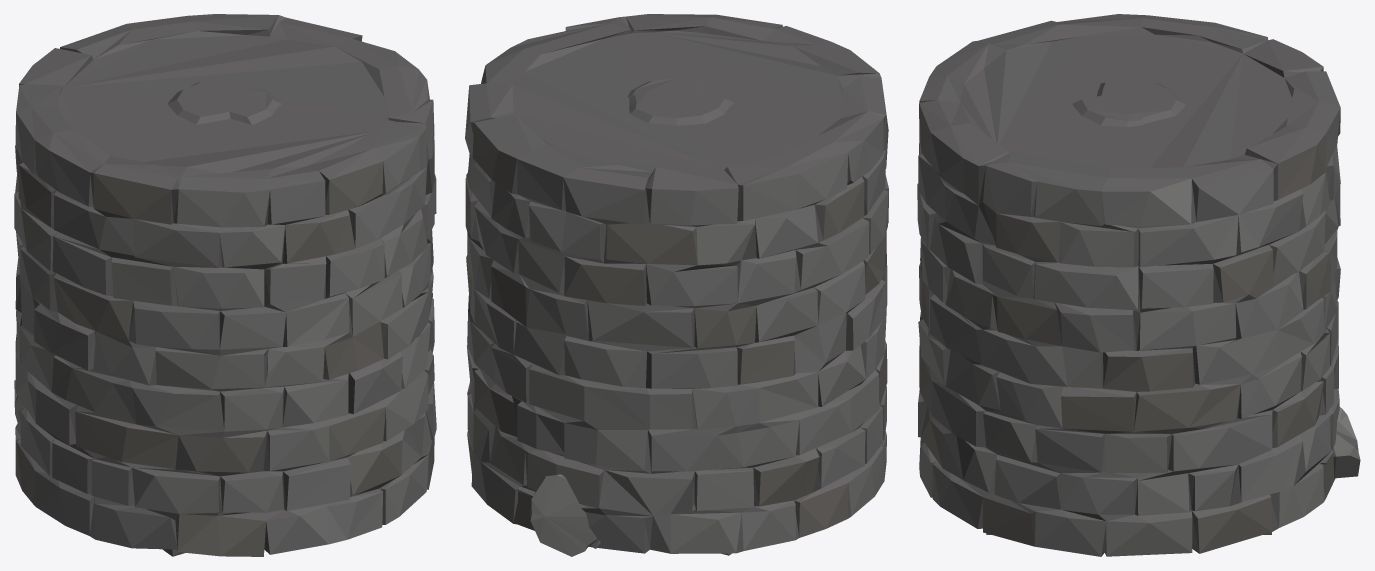
Rendered from Pillars.fbx.
3 views of the same model, side by side, from view 1: azimuth 30°, elevation 25°; view 2: azimuth 150°, elevation 25°; view 3: azimuth 270°, elevation 25° (orthographic).
Visible parts, largest first — view 1: SM_Env_Wall_Round_01, SM_Env_Wall_Pillar_Large_Round_01; view 2: SM_Env_Wall_Round_01, SM_Env_Wall_Pillar_Large_Round_01, SM_Env_Pillar_Broken_Pile_02; view 3: SM_Env_Wall_Round_01, SM_Env_Wall_Pillar_Large_Round_01, SM_Env_Pillar_Broken_Pile_02.
Boxes of the visible parts, bbox=[...] form: SM_Env_Wall_Round_01: bbox=[14, 14, 436, 556]; SM_Env_Wall_Pillar_Large_Round_01: bbox=[168, 79, 281, 124]; SM_Env_Wall_Round_01: bbox=[465, 14, 888, 553]; SM_Env_Wall_Pillar_Large_Round_01: bbox=[627, 78, 733, 125]; SM_Env_Pillar_Broken_Pile_02: bbox=[530, 474, 600, 556]; SM_Env_Wall_Round_01: bbox=[917, 14, 1340, 556]; SM_Env_Wall_Pillar_Large_Round_01: bbox=[1072, 80, 1185, 126]; SM_Env_Pillar_Broken_Pile_02: bbox=[1331, 407, 1360, 478].
Bounding box in the file's own units: 514 × 538 × 518.
